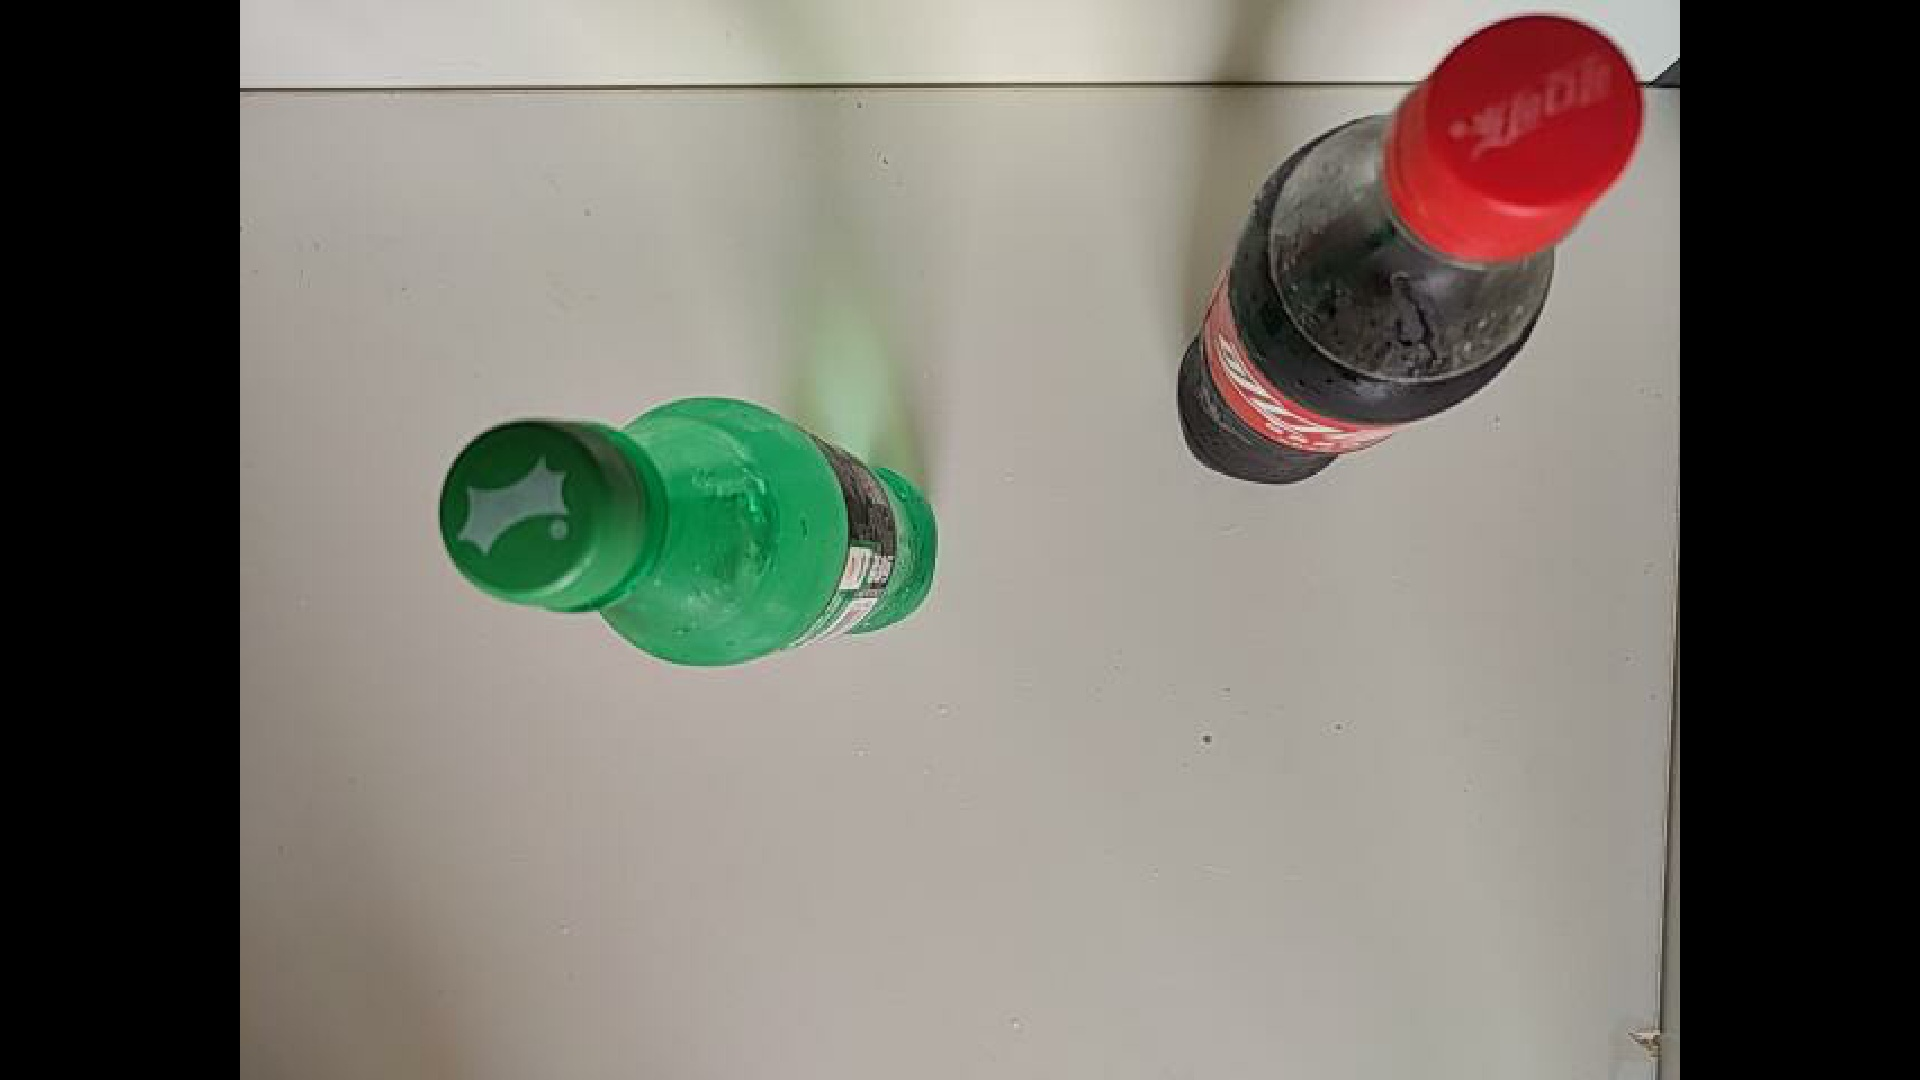cola: (1175, 12, 1644, 487)
sprite: (435, 393, 943, 671)
